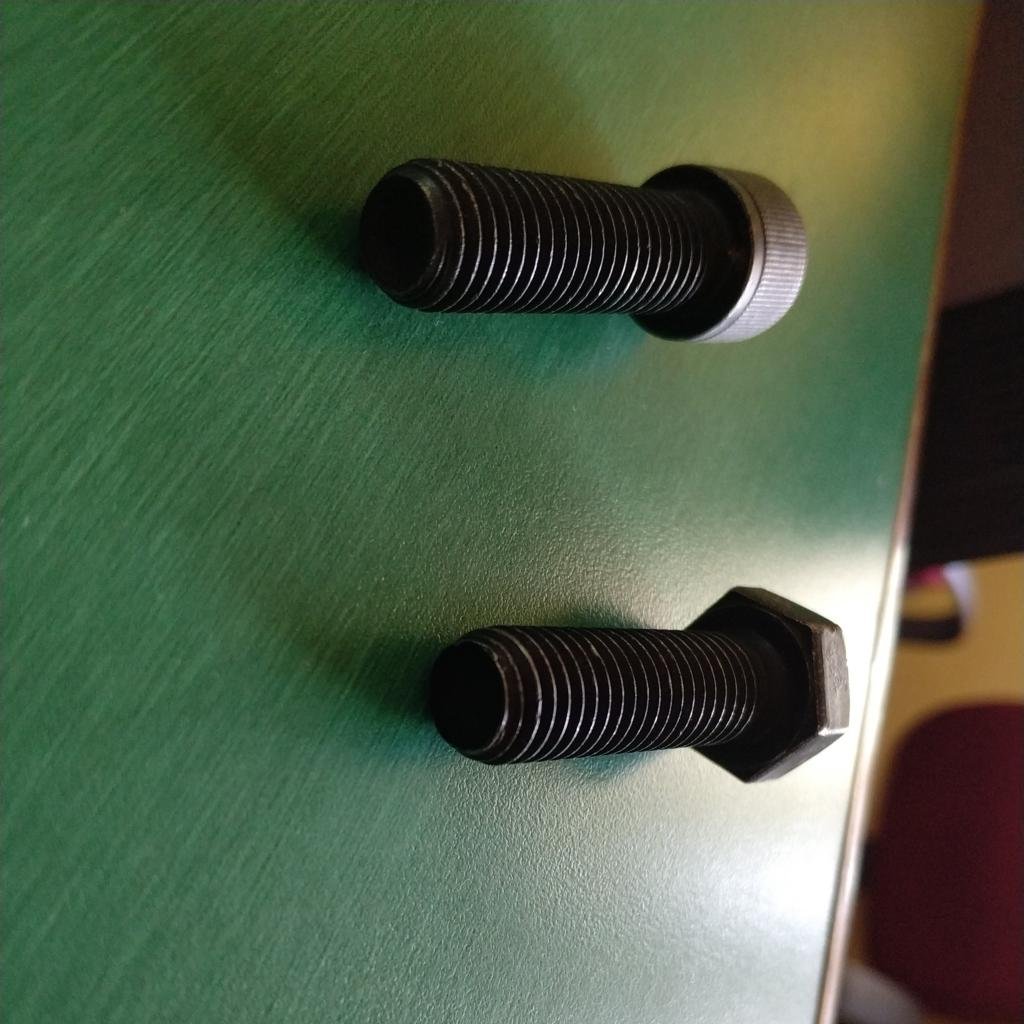screwtype1black: (355, 140, 811, 348)
screwtype2black: (431, 576, 856, 787)
